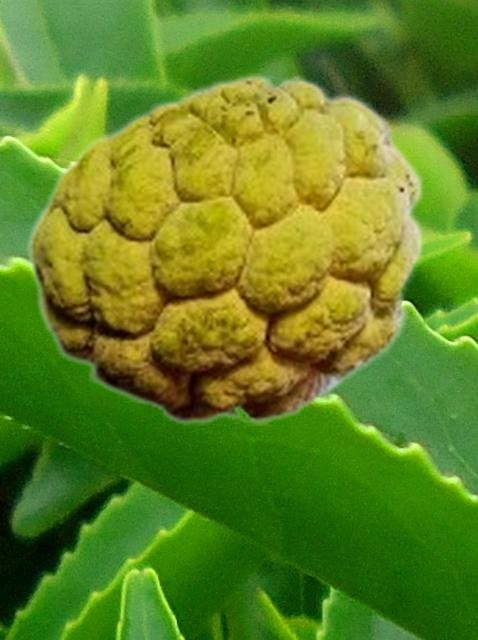atis: (25, 73, 424, 424)
